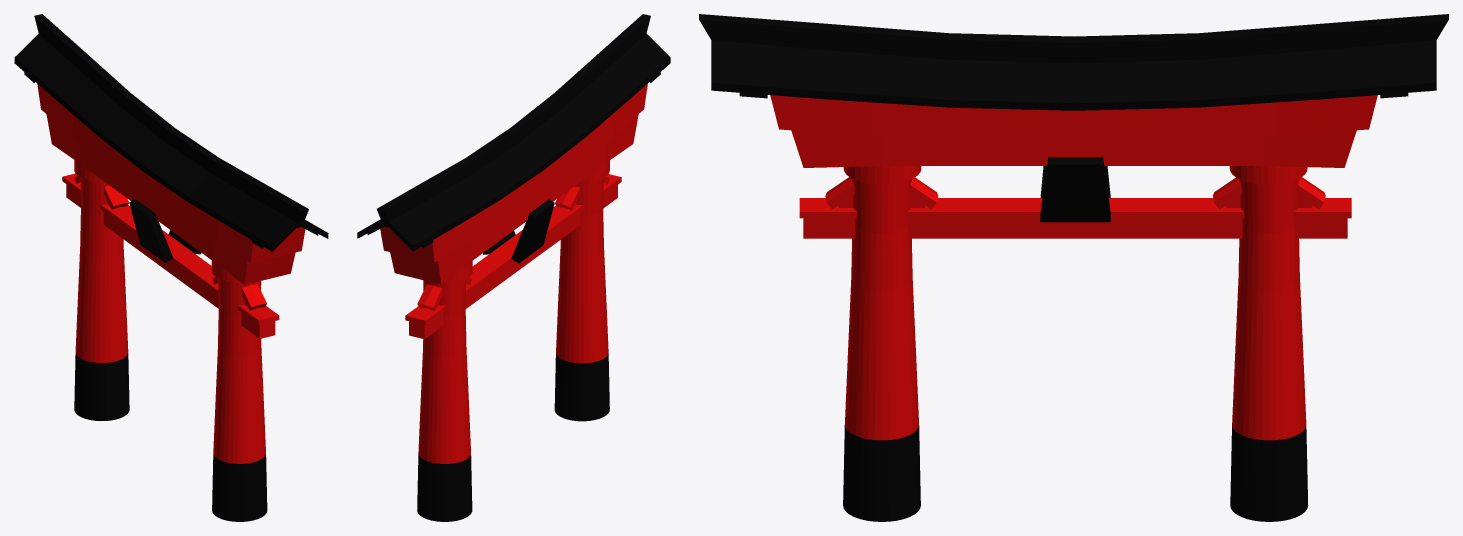
The model's file is torii_final.fbx.
3 views of the same model, side by side, from view 1: azimuth 30°, elevation 25°; view 2: azimuth 150°, elevation 25°; view 3: azimuth 270°, elevation 25° (orthographic). The views are drawn at different scales.
Visible parts, largest first — view 1: Cilindro, Cubo.002, Cubo.001, Cubo, Cubo.003, Cubo.035, Cilindro.001, Cubo.006, Cubo.005; view 2: Cilindro, Cubo.002, Cubo.001, Cubo, Cubo.003, Cubo.035, Cilindro.001, Cubo.006, Cubo.005; view 3: Cubo.002, Cilindro, Cubo.001, Cubo.003, Cubo, Cubo.034, Cilindro.001, Cubo.006, Cubo.005.
Boxes of the visible parts, <box> form: Cilindro: <box>74,177,267,521</box>; Cubo.002: <box>14,14,328,251</box>; Cubo.001: <box>37,84,305,262</box>; Cubo: <box>46,114,295,284</box>; Cubo.003: <box>62,173,279,338</box>; Cubo.035: <box>129,199,172,262</box>; Cilindro.001: <box>74,160,240,282</box>; Cubo.006: <box>74,176,266,310</box>; Cubo.005: <box>103,185,218,284</box>; Cilindro: <box>417,178,609,521</box>; Cubo.002: <box>357,14,670,251</box>; Cubo.001: <box>380,83,647,262</box>; Cubo: <box>390,114,638,284</box>; Cubo.003: <box>405,174,621,339</box>; Cubo.035: <box>511,199,554,263</box>; Cilindro.001: <box>444,160,609,282</box>; Cubo.006: <box>417,176,609,310</box>; Cubo.005: <box>466,186,580,284</box>; Cubo.002: <box>699,14,1448,110</box>; Cilindro: <box>843,178,1308,521</box>; Cubo.001: <box>770,95,1377,144</box>; Cubo.003: <box>799,198,1351,238</box>; Cubo: <box>791,130,1356,167</box>; Cubo.034: <box>1040,157,1110,222</box>; Cilindro.001: <box>843,166,1307,184</box>; Cubo.006: <box>825,177,1325,209</box>; Cubo.005: <box>909,177,1241,209</box>.
Size of the model in its own units: 265 by 1385 by 1925.
